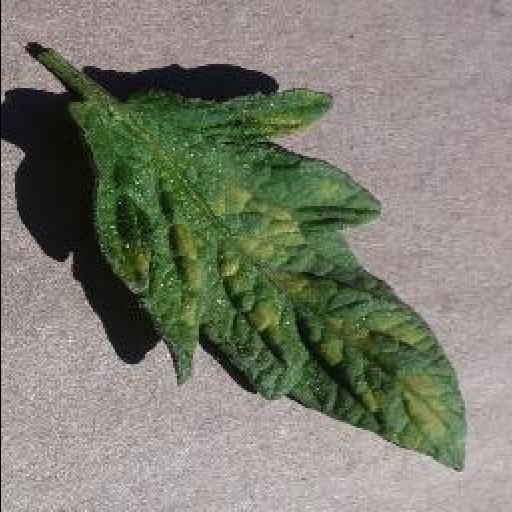disease_tomato: (70, 92, 466, 470)
